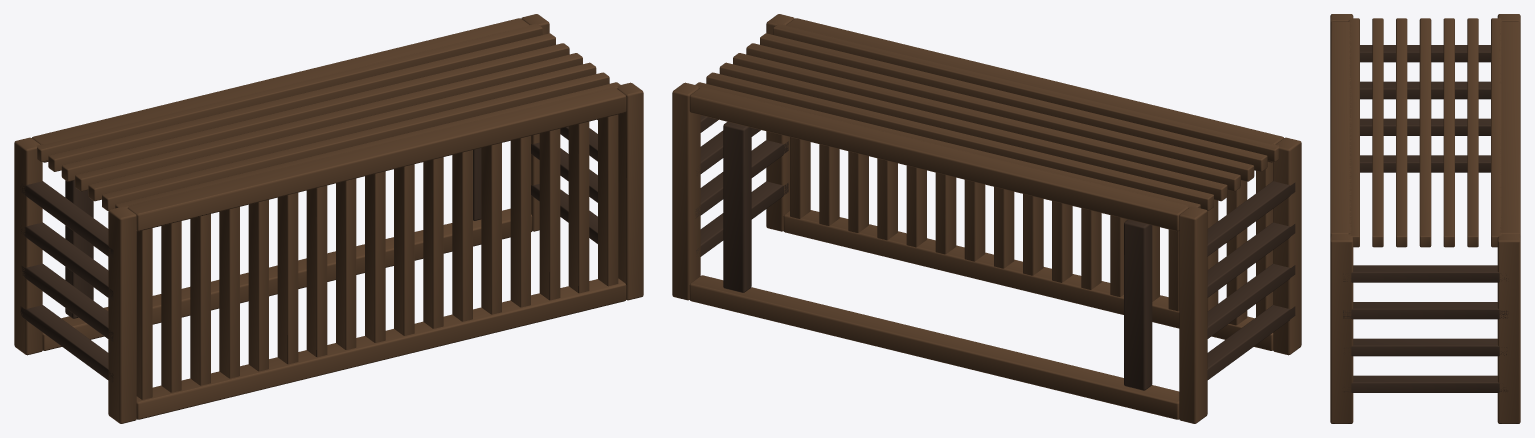
Rendered from kominka-ac-cover-01.glb.
The picture shows the model from 3 angles, left to right: view 1: azimuth 30°, elevation 25°; view 2: azimuth 150°, elevation 25°; view 3: azimuth 270°, elevation 25°; orthographic projection. The views are drawn at different scales.
Parts seen in each view (by area): view 1: kominka-ac-cover-01; view 2: kominka-ac-cover-01; view 3: kominka-ac-cover-01.
Part boxes in pixels (x1=…): kominka-ac-cover-01: x1=14, y1=14, x2=643, y2=423; kominka-ac-cover-01: x1=672, y1=14, x2=1301, y2=423; kominka-ac-cover-01: x1=1330, y1=14, x2=1520, y2=423.
Size of the model in its own units: 0.85 by 0.32 by 0.3.
